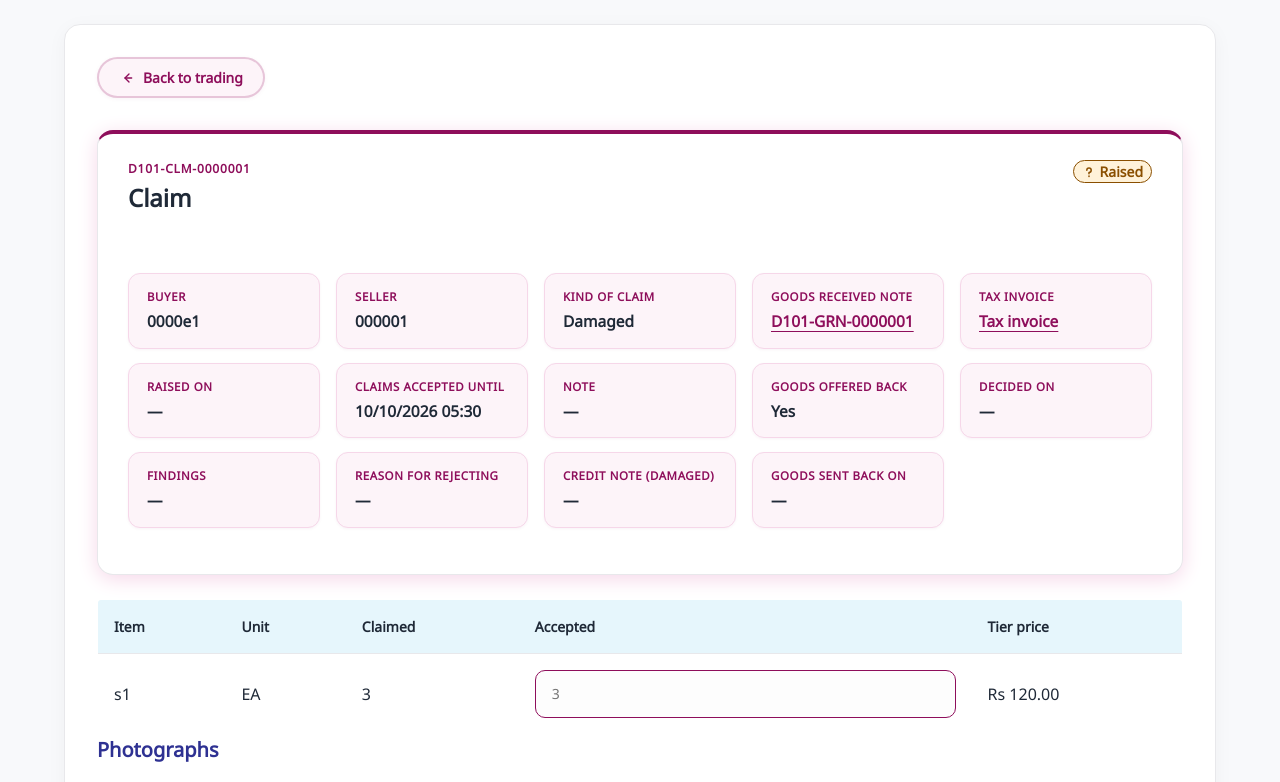
Test: the claim › refuses an accepted quantity above the claim
The image size is (1280, 782).
Type "5" into the field named "Accepted" at (745, 694), box x1=535 y1=670 x2=956 y2=718
(page scrolled)
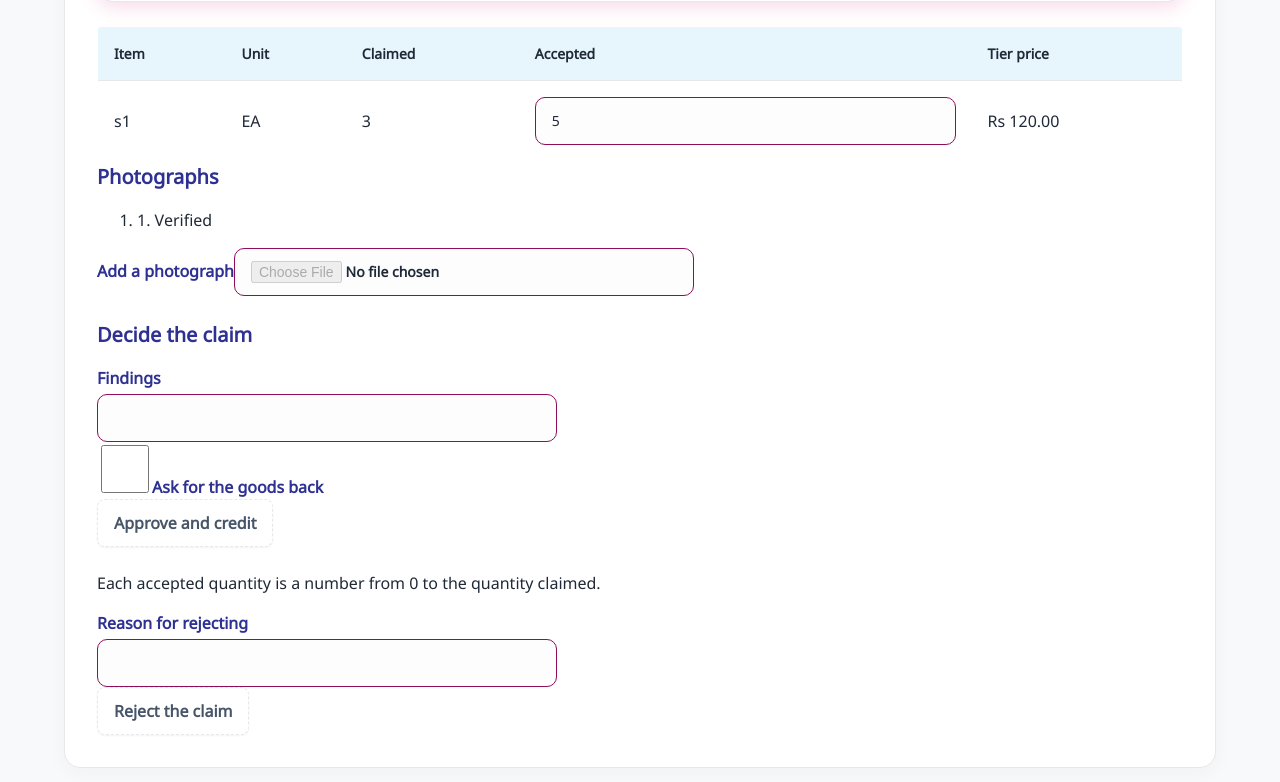
Now the text "Each accepted quantity is a number from 0 to the quantity claimed." is shown, box x1=97 y1=572 x2=601 y2=594
Now the button "Approve and credit" is disabled, box x1=97 y1=499 x2=274 y2=547
